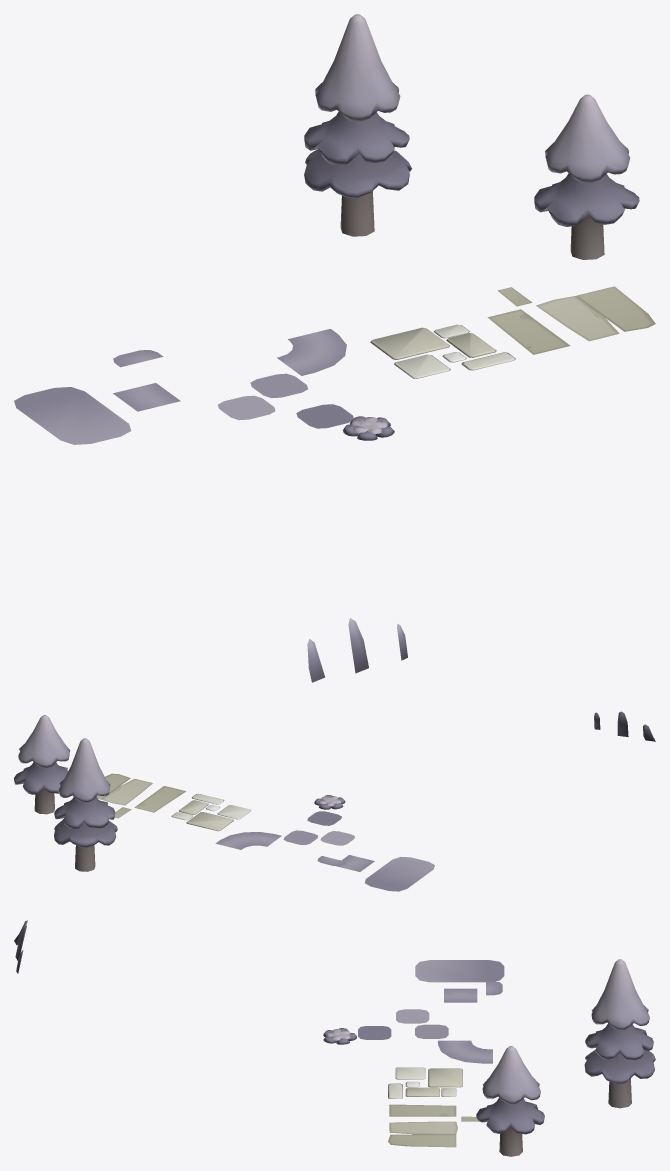
3 views of the same model, one above another, from view 1: azimuth 30°, elevation 25°; view 2: azimuth 150°, elevation 25°; view 3: azimuth 270°, elevation 25° (orthographic). The views are drawn at different scales.
Parts seen in each view (by area): view 1: Tree_H, Tree_H_Small, Road_S1_1, Road_Step3_1, Road_S1_3.005, Road_Step2_2, Road_Step2_3, Road_Step2_1, Road_S1_2, Road_S2_1, Road_S1_3.001, Road_S1_3.003 (+1 smaller); view 2: Tree_H, Tree_H_Small, Road_S1_1, Road_Step3_1, Road_S1_3.005, Road_Step2_2, Road_Step2_1, Road_S1_3.003, Road_S2_1, Road_S1_3.001, Road_S1_2, Flower_S2 (+1 smaller); view 3: Tree_H, Tree_H_Small, Road_S1_1, Road_Step3_1, Road_S1_3.005, Road_Step2_2, Road_Step2_3, Road_Step2_1, Road_S1_2, Road_S1_3.001, Road_S1_3.003, Road_S2_1 (+1 smaller).
Boxes of the visible parts, x1=… form: Tree_H: x1=304, y1=14, x2=412, y2=236; Tree_H_Small: x1=534, y1=94, x2=639, y2=259; Road_S1_1: x1=14, y1=387, x2=131, y2=444; Road_Step3_1: x1=370, y1=327, x2=515, y2=378; Road_S1_3.005: x1=277, y1=329, x2=346, y2=375; Road_Step2_2: x1=536, y1=296, x2=619, y2=341; Road_Step2_3: x1=575, y1=286, x2=655, y2=331; Road_Step2_1: x1=487, y1=309, x2=570, y2=354; Road_S1_2: x1=113, y1=383, x2=180, y2=411; Road_S2_1: x1=296, y1=404, x2=353, y2=428; Road_S1_3.001: x1=218, y1=395, x2=275, y2=419; Road_S1_3.003: x1=250, y1=373, x2=307, y2=398; Tree_H: x1=54, y1=738, x2=117, y2=871; Tree_H_Small: x1=14, y1=715, x2=70, y2=814; Road_S1_1: x1=365, y1=857, x2=434, y2=891; Road_Step3_1: x1=179, y1=793, x2=251, y2=831; Road_S1_3.005: x1=215, y1=832, x2=281, y2=849; Road_Step2_2: x1=102, y1=778, x2=152, y2=805; Road_Step2_1: x1=134, y1=786, x2=186, y2=812; Road_S1_3.003: x1=283, y1=830, x2=317, y2=844; Road_S2_1: x1=307, y1=811, x2=341, y2=825; Road_S1_3.001: x1=320, y1=831, x2=354, y2=845; Road_S1_2: x1=337, y1=855, x2=374, y2=871; Flower_S2: x1=314, y1=795, x2=345, y2=809; Tree_H: x1=584, y1=959, x2=655, y2=1108; Tree_H_Small: x1=476, y1=1046, x2=544, y2=1156; Road_S1_1: x1=415, y1=960, x2=504, y2=982; Road_Step3_1: x1=388, y1=1067, x2=462, y2=1098; Road_S1_3.005: x1=438, y1=1040, x2=492, y2=1063; Road_Step2_2: x1=389, y1=1121, x2=457, y2=1134; Road_Step2_3: x1=388, y1=1134, x2=456, y2=1147; Road_Step2_1: x1=389, y1=1104, x2=456, y2=1116; Road_S1_2: x1=444, y1=988, x2=477, y2=1002; Road_S1_3.001: x1=396, y1=1009, x2=429, y2=1023; Road_S1_3.003: x1=415, y1=1024, x2=448, y2=1038; Road_S2_1: x1=358, y1=1026, x2=391, y2=1039.
Bounding box in the file's own units: 15.9 × 4.78 × 19.16.
